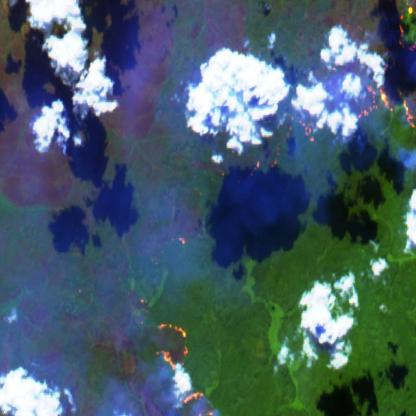fire: (246, 0, 416, 176), (154, 312, 221, 416)
